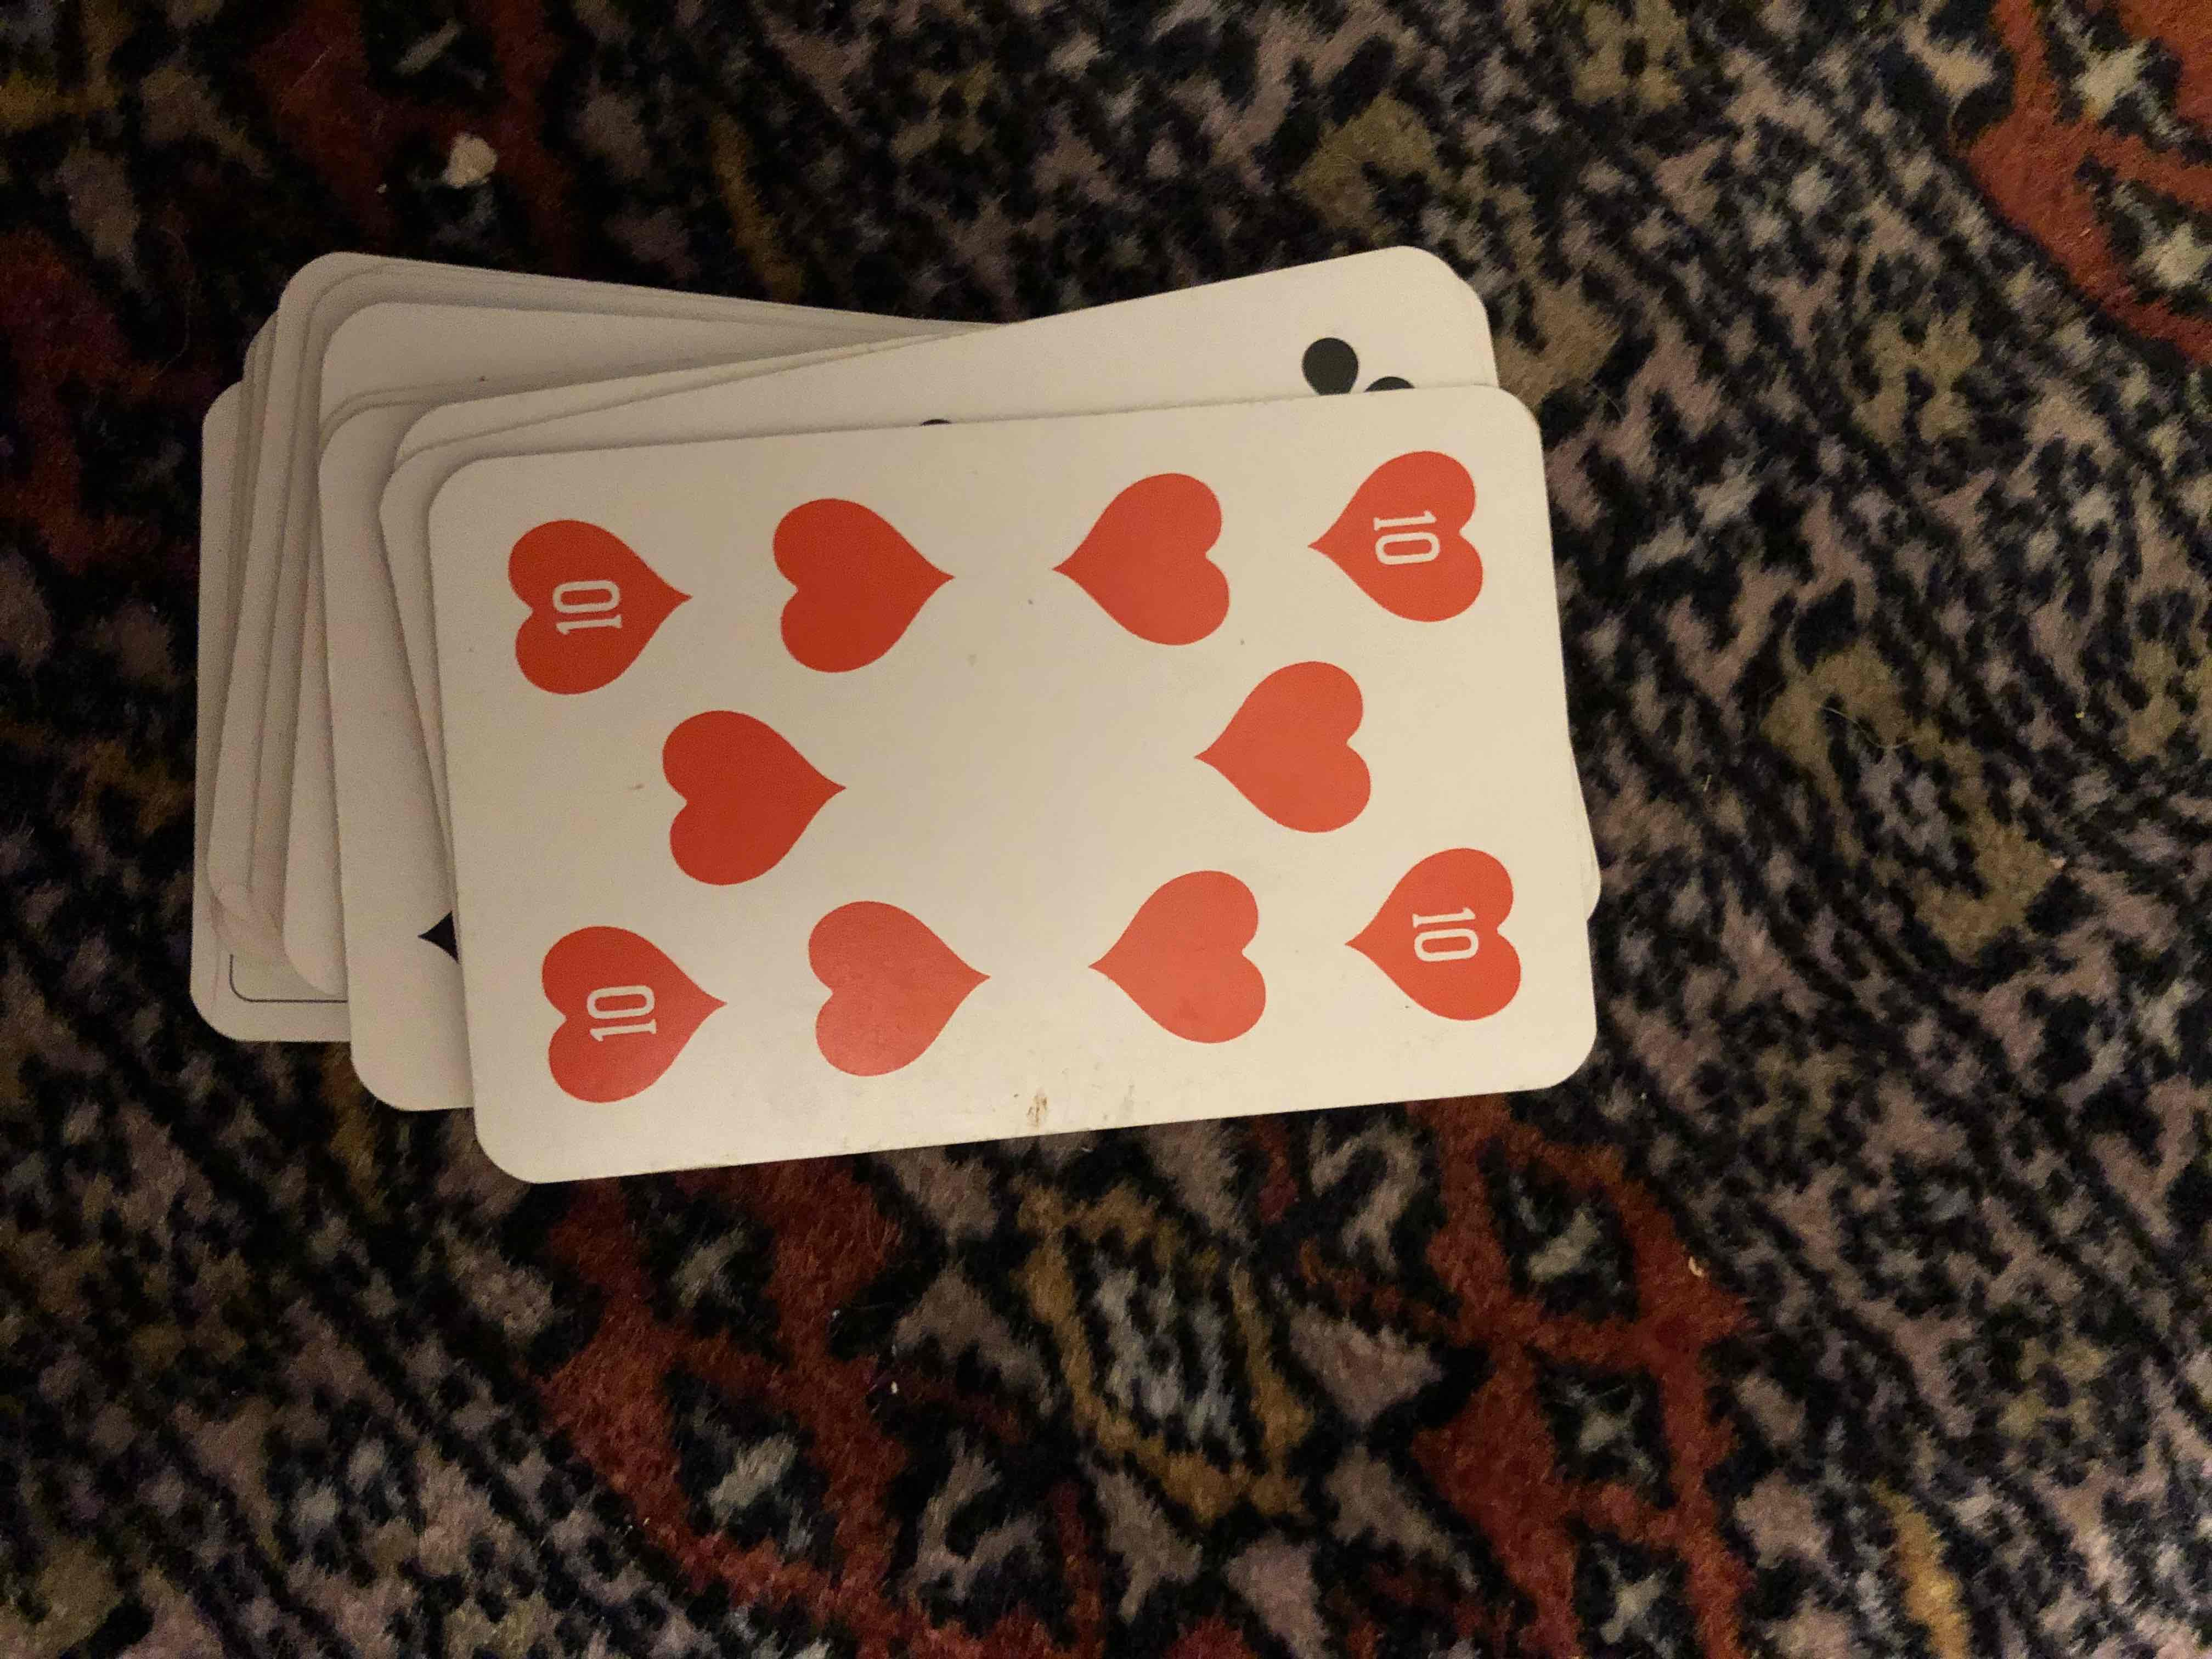hearts10: (425, 427, 1637, 1122)
